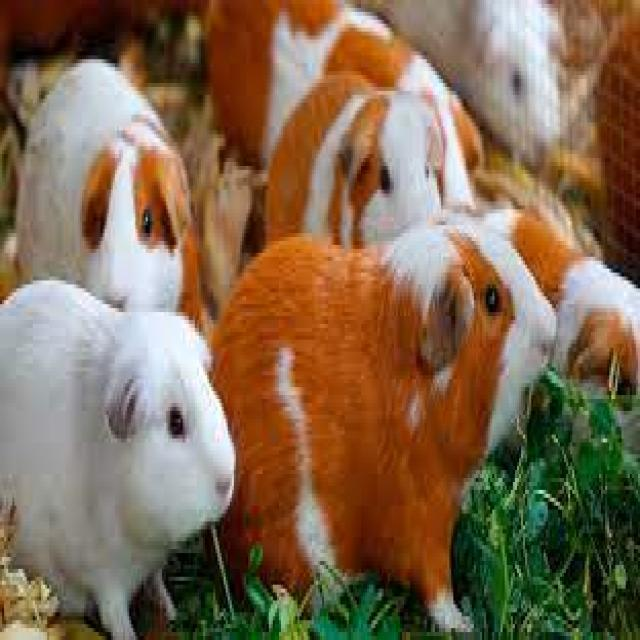guinea pig: (209, 244, 567, 619), (0, 276, 238, 640), (12, 42, 200, 316), (264, 69, 451, 244)
